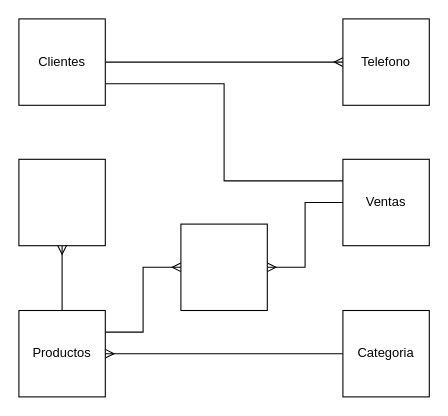
The diagram is 448 pixels wide and 416 high, and some of its shapes have lost their labels. The shapes that lost their labels are listed below. From the top down, each one's centre as x and y in pixels, then its label:
At (61,202): "Proveedores".
At (223,266): "Productos - Ventas".
